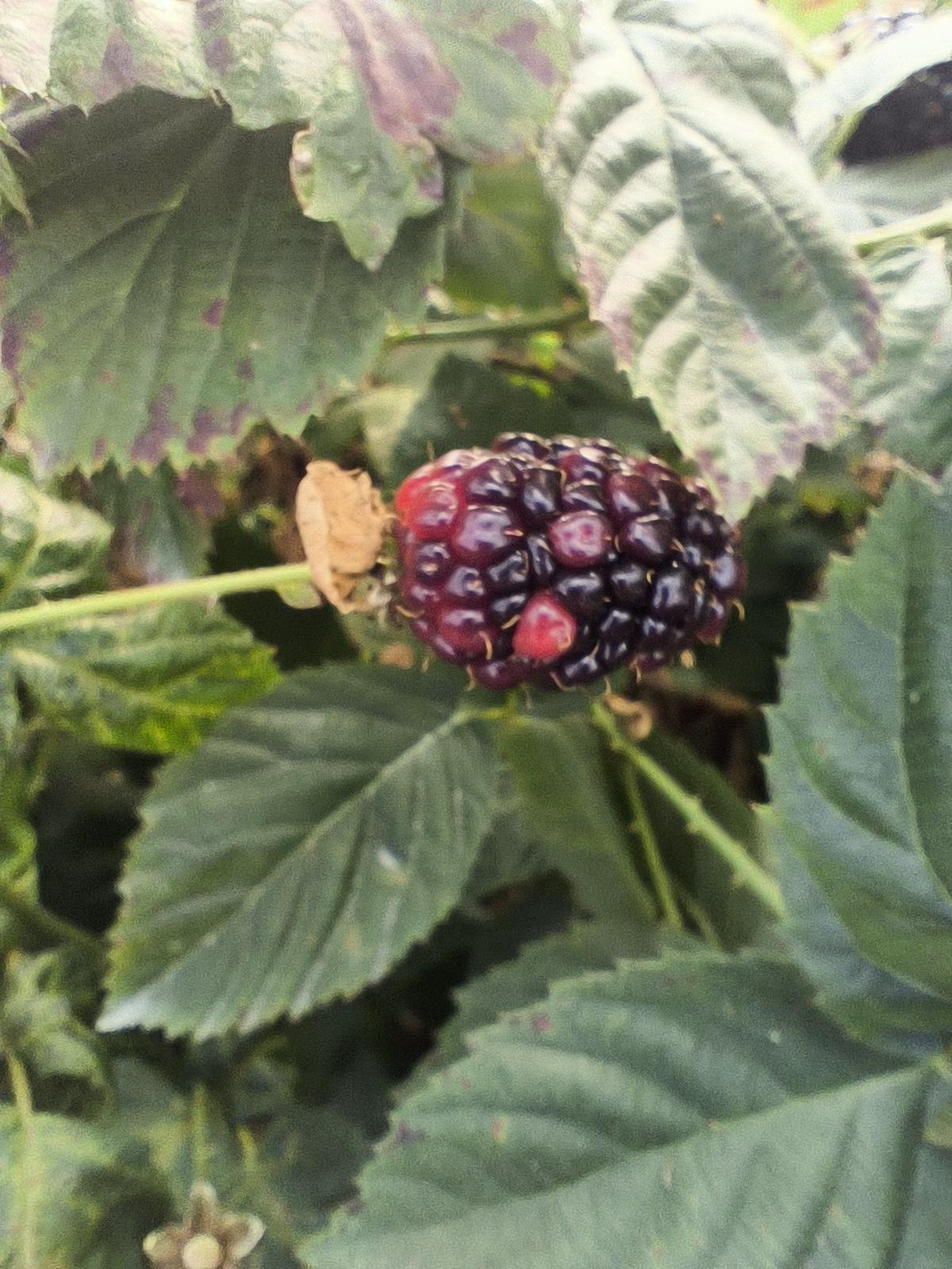marron: (394, 434, 743, 688)
